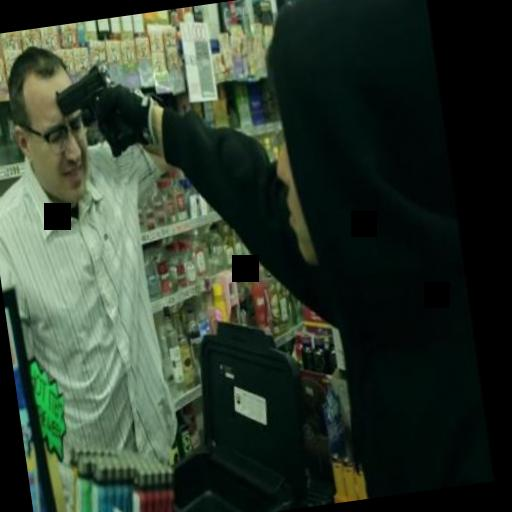Handgun: (46, 60, 131, 161)
